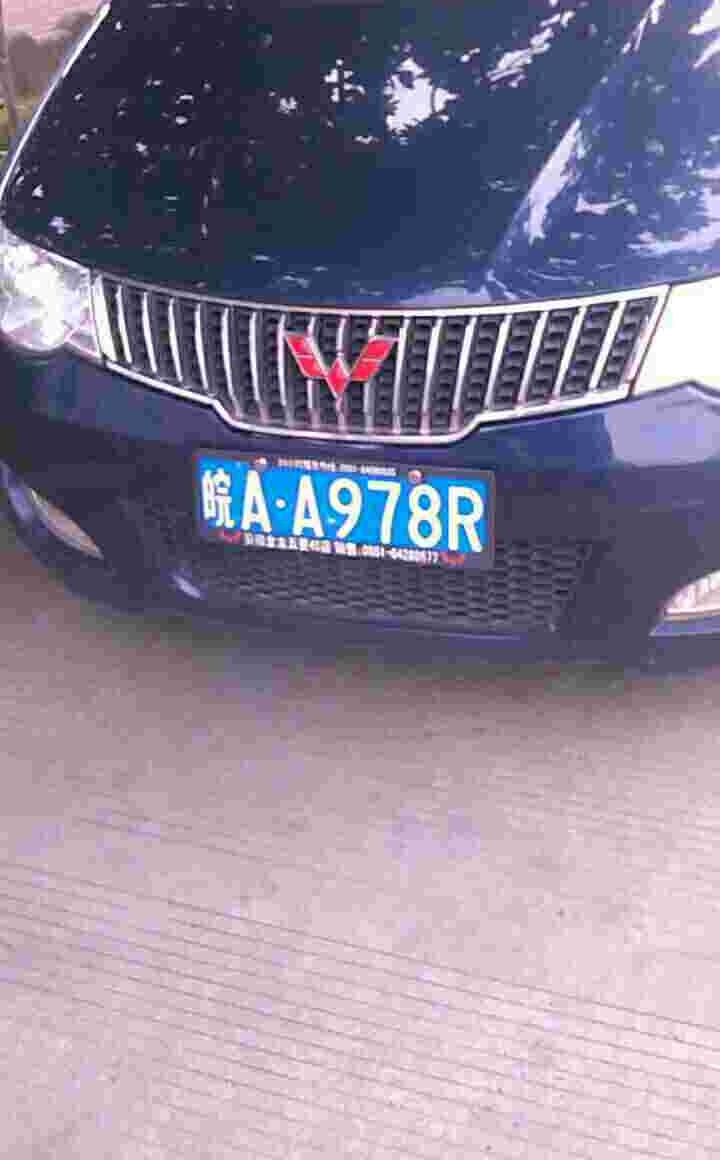license_plate: (200, 450, 488, 558)
